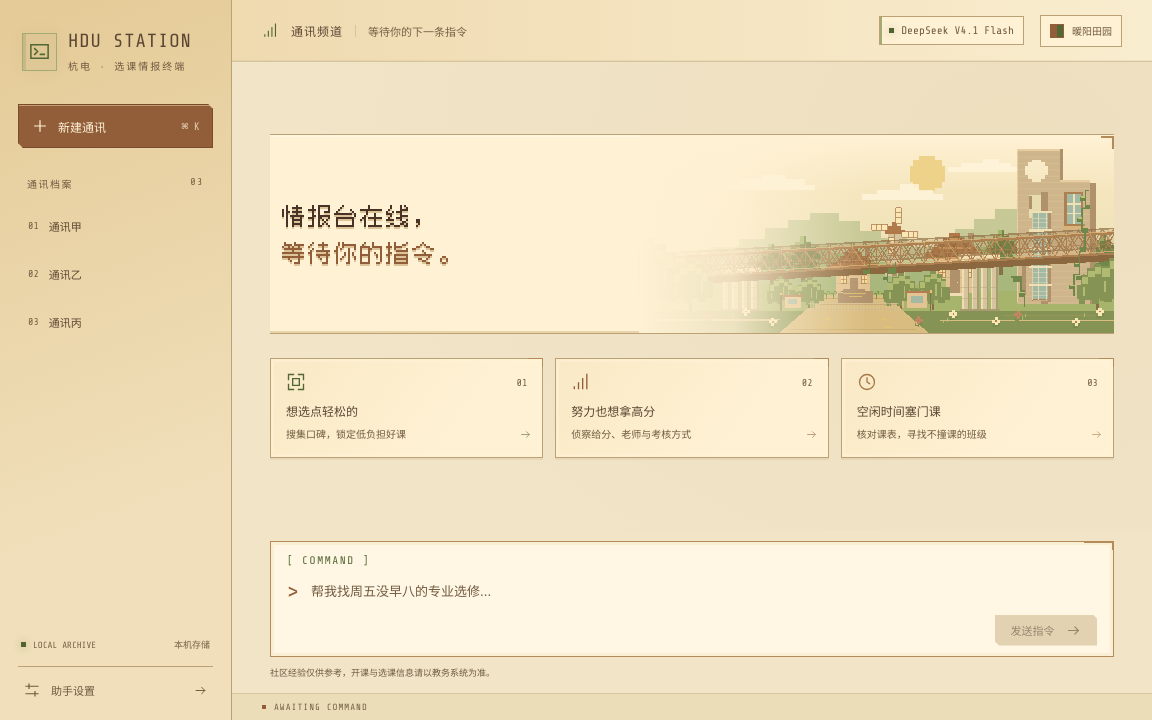
course assistant › retains the current transcript during slow navigation and ignores stale loads
Click the button "01 通讯甲".
click(116, 226)  # box x1=19 y1=206 x2=212 y2=246
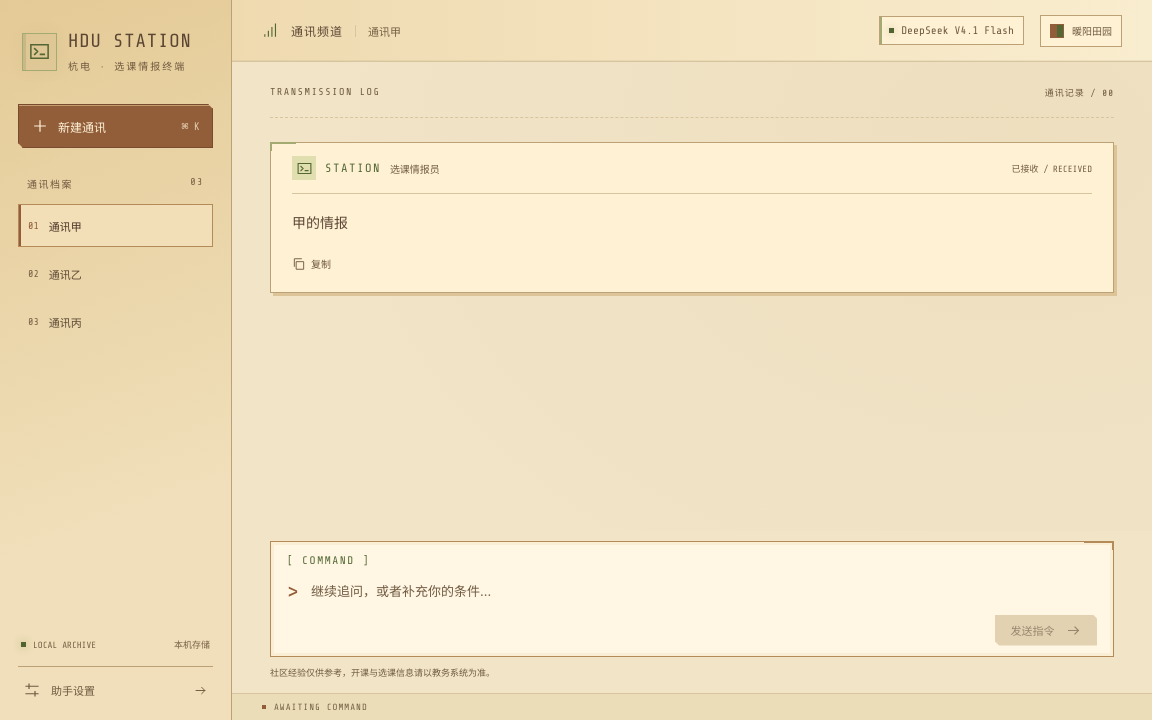
Type "保留我的草稿" into the text box named "选课问题".
click(704, 593); type("保留我的草稿")  # box x1=311 y1=579 x2=1097 y2=607
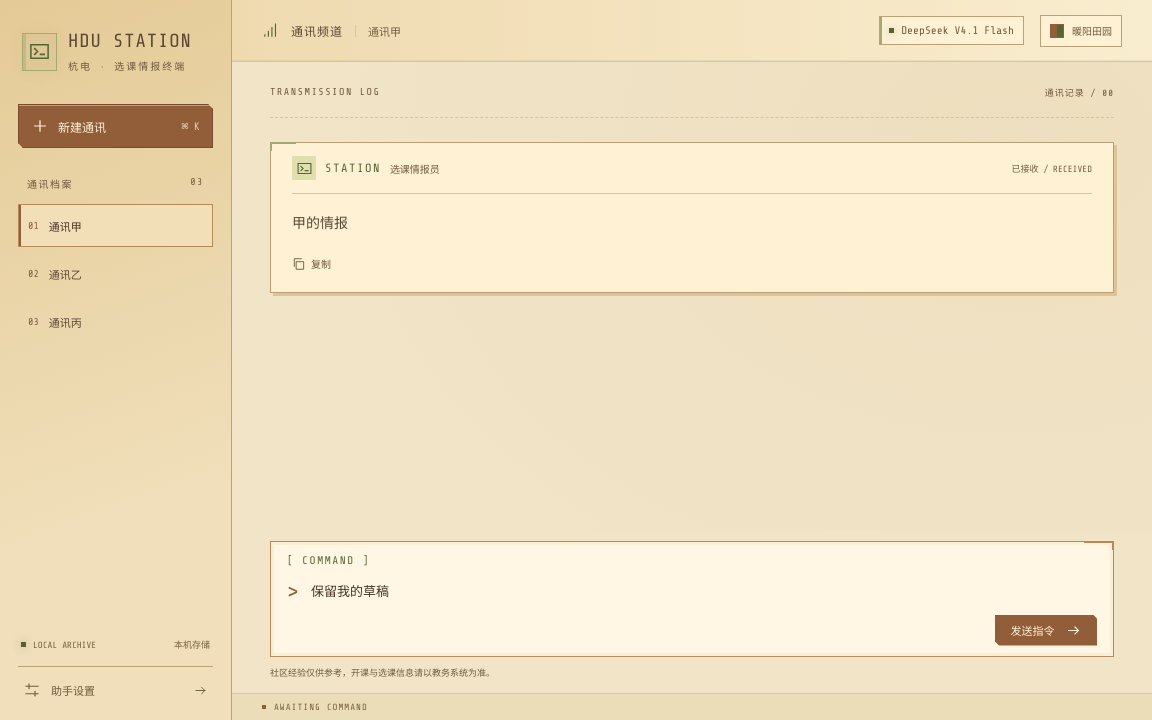
Click the button "02 通讯乙".
click(116, 274)  # box x1=19 y1=254 x2=212 y2=294
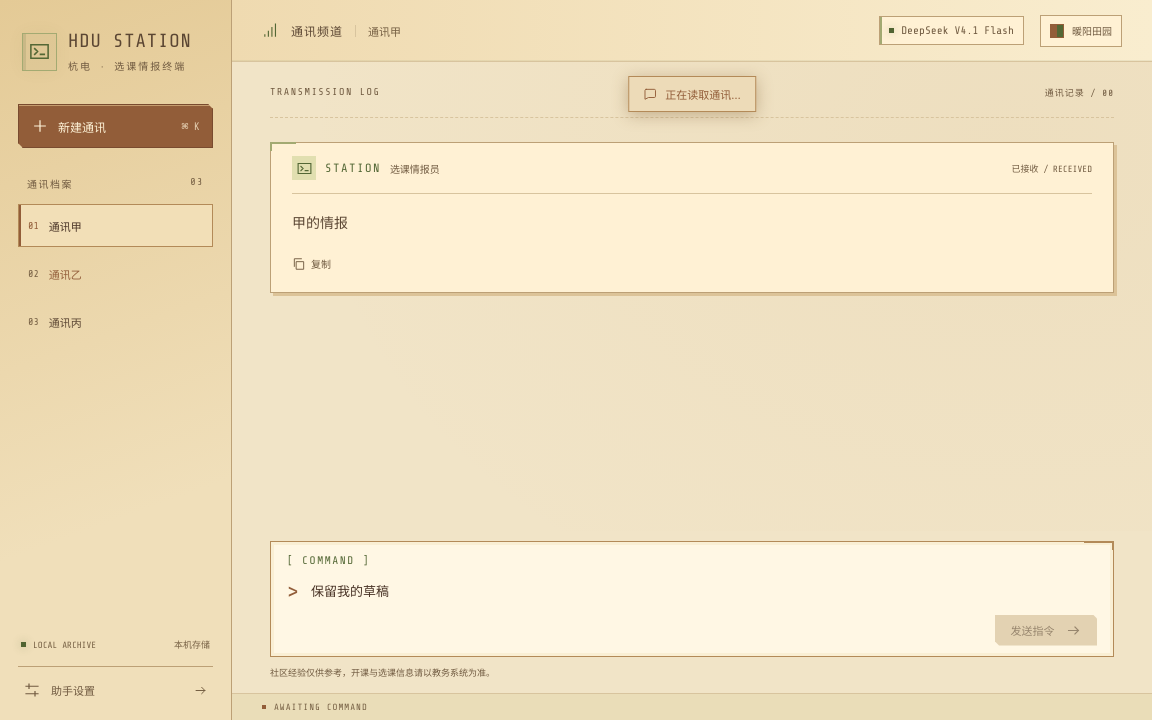
expect the text "甲的情报" is shown: met, box x1=292 y1=214 x2=348 y2=231
expect the button with aria-label "发送问题" is disabled: met, box x1=995 y1=615 x2=1097 y2=646
Press Enter in the text box named "选课问题", box x1=311 y1=579 x2=1097 y2=607
Click the button "03 通讯丙".
click(116, 322)  # box x1=19 y1=302 x2=212 y2=342
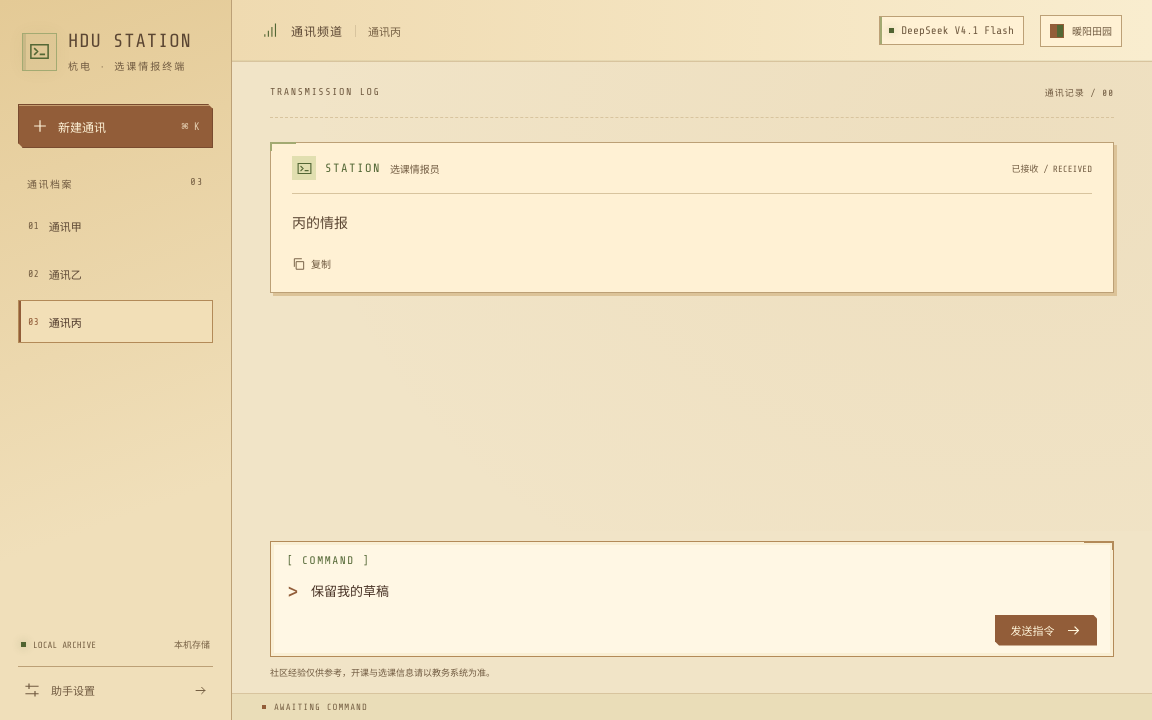
expect the text "丙的情报" is shown: met, box x1=292 y1=214 x2=348 y2=231
expect the button with aria-label "发送问题" is enabled: met, box x1=995 y1=615 x2=1097 y2=646
